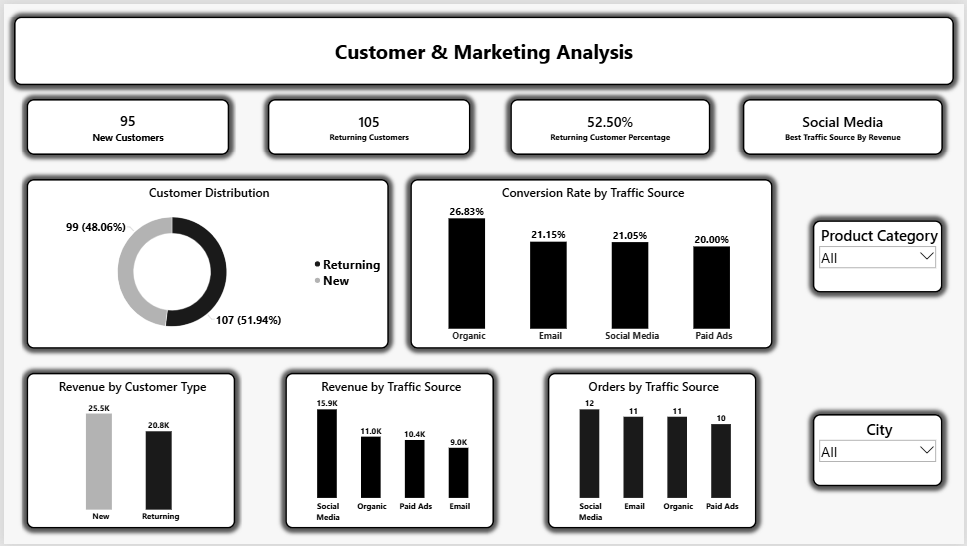

The page's visual inventory and layout, read from the dashboard file:
{"tool":"powerbi","page":{"name":"Customer & Marketing Analysis","canvas":[3840,2160],"ordinal":2},"visuals":[{"type":"textbox","box":[320,47.5,1472.5,92.5],"z":0},{"type":"card","fields":{"Values":["ecommerce_Cleaned_data.New Customers"]},"box":[90.8,379.1,811.6,224.3],"z":1000},{"type":"shape","box":[40,50,3760,275],"z":2000},{"type":"card","fields":{"Values":["ecommerce_Cleaned_data.Returning Customers"]},"box":[1057.2,379.1,811.6,224.3],"z":3000},{"type":"card","fields":{"Values":["ecommerce_Cleaned_data.Returning Customer %"]},"box":[2023.6,379.1,800.9,224.3],"z":4000},{"type":"columnChart","title":"Revenue by Customer Type","fields":{"Category":["ecommerce_Cleaned_data.customer_type"],"Y":["Sum(ecommerce_Cleaned_data.revenue)"]},"box":[90.9,1475.9,835.4,623.3],"z":5000},{"type":"columnChart","title":"Conversion Rate by Traffic Source","fields":{"Category":["ecommerce_Cleaned_data.traffic_source"],"Y":["ecommerce_Cleaned_data.Conversion Rate"]},"box":[1623.1,701.2,1450,679.5],"z":6000},{"type":"columnChart","title":"Revenue by Traffic Source","fields":{"Category":["ecommerce_Cleaned_data.traffic_source"],"Y":["Sum(ecommerce_Cleaned_data.revenue)"]},"box":[1125.4,1475.9,835.4,623.3],"z":7000},{"type":"donutChart","title":"Customer Distribution","fields":{"Category":["ecommerce_Cleaned_data.customer_type"],"Y":["CountNonNull(ecommerce_Cleaned_data.customer_type)"]},"box":[90.9,701.2,1450,679.5],"z":8000},{"type":"columnChart","title":"Orders by Traffic Source","fields":{"Category":["ecommerce_Cleaned_data.traffic_source"],"Y":["ecommerce_Cleaned_data.Total Orders"]},"box":[2172.8,1475.9,835.4,623.3],"z":9000},{"type":"slicer","title":"Product Category","fields":{"Values":["ecommerce_Cleaned_data.product_category"]},"box":[3233.2,865.7,519.4,290],"z":10000},{"type":"slicer","title":"City","fields":{"Values":["ecommerce_Cleaned_data.city"]},"box":[3233.2,1640.4,519.4,290],"z":11000},{"type":"card","fields":{"Values":["ecommerce_Cleaned_data.Best Traffic Source"]},"box":[2952.7,379.1,800.9,224.3],"z":12000}]}

Visuals, with their boxes in screenshot pixels (x1, y1, x2, y2), scaled from the page's 3840x2160 canvas onto the 967x546 screenshot:
textbox: (x1=81, y1=12, x2=451, y2=35)
card - ecommerce_Cleaned_data.New Customers: (x1=23, y1=96, x2=227, y2=153)
shape: (x1=10, y1=13, x2=957, y2=82)
card - ecommerce_Cleaned_data.Returning Customers: (x1=266, y1=96, x2=471, y2=153)
card - ecommerce_Cleaned_data.Returning Customer %: (x1=510, y1=96, x2=711, y2=153)
"Revenue by Customer Type" columnChart: (x1=23, y1=373, x2=233, y2=531)
"Conversion Rate by Traffic Source" columnChart: (x1=409, y1=177, x2=774, y2=349)
"Revenue by Traffic Source" columnChart: (x1=283, y1=373, x2=494, y2=531)
"Customer Distribution" donutChart: (x1=23, y1=177, x2=388, y2=349)
"Orders by Traffic Source" columnChart: (x1=547, y1=373, x2=758, y2=531)
"Product Category" slicer: (x1=814, y1=219, x2=945, y2=292)
"City" slicer: (x1=814, y1=415, x2=945, y2=488)
card - ecommerce_Cleaned_data.Best Traffic Source: (x1=744, y1=96, x2=945, y2=153)
